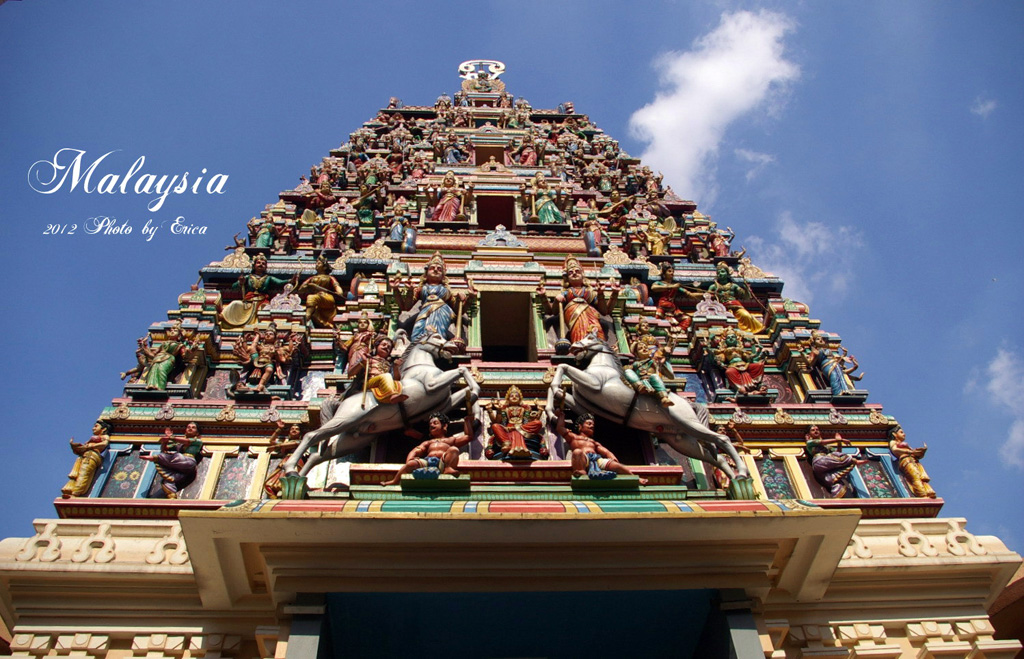Hindu Temple: (131, 57, 915, 561)
